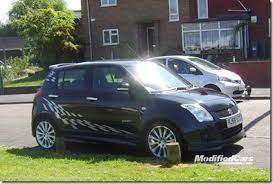Hatchback: (28, 59, 247, 162), (145, 54, 247, 100)
